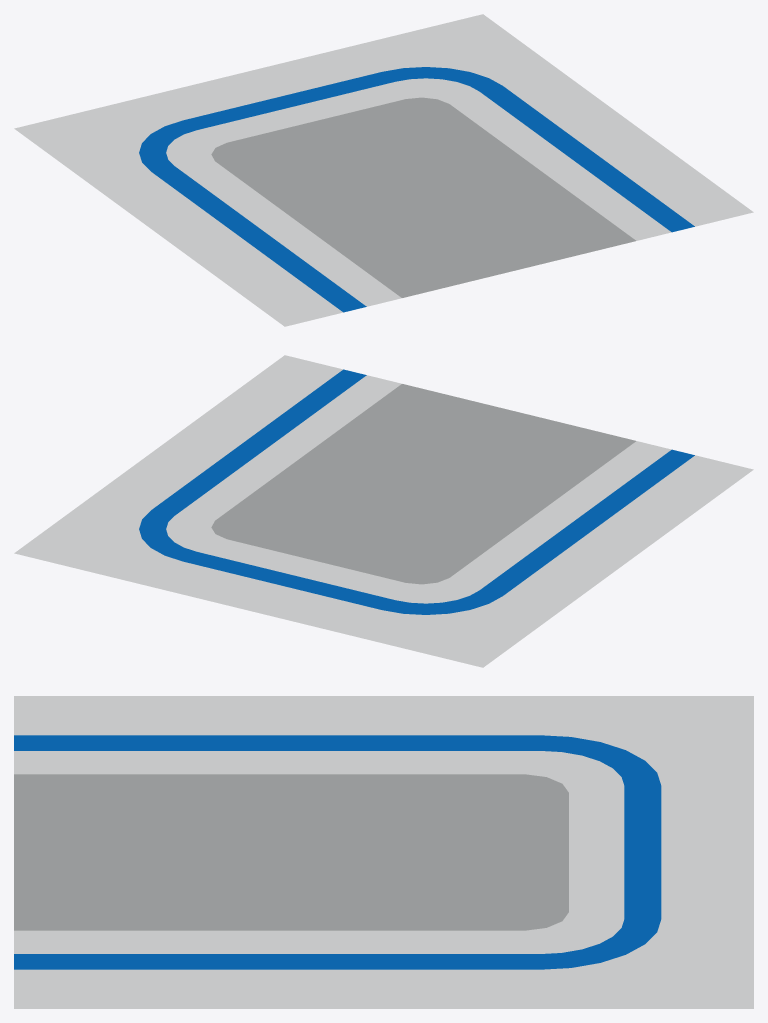
File: Ceiling_type_A_042.fbx
The picture shows the model from 3 angles, top to bottom: view 1: azimuth 30°, elevation 25°; view 2: azimuth 150°, elevation 25°; view 3: azimuth 270°, elevation 25°; orthographic projection. The views are drawn at different scales.
Parts seen in each view (by area): view 1: Ceiling_type_A_042; view 2: Ceiling_type_A_042; view 3: Ceiling_type_A_042.
Part boxes in pixels (box(x1,y1,x2,y2)): Ceiling_type_A_042: box(14, 14, 753, 326); Ceiling_type_A_042: box(14, 355, 753, 667); Ceiling_type_A_042: box(14, 696, 753, 1008).
Size of the model in its own units: 400 by 400 by 1.2.
